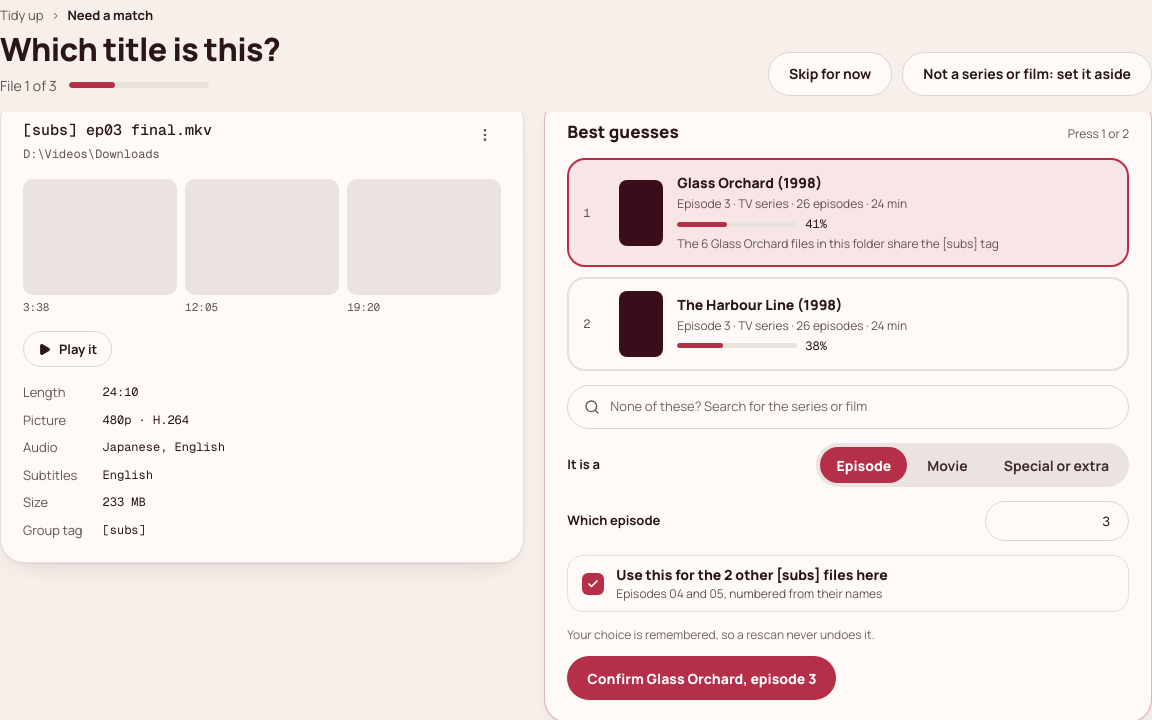
Test: MatchPage › says why it can't search without a TMDB key
Step 1. Type "Glass Orchard Returns" into the search field named "Search for the right series or film" → coordinates (861, 407), box [610, 397, 1112, 417]
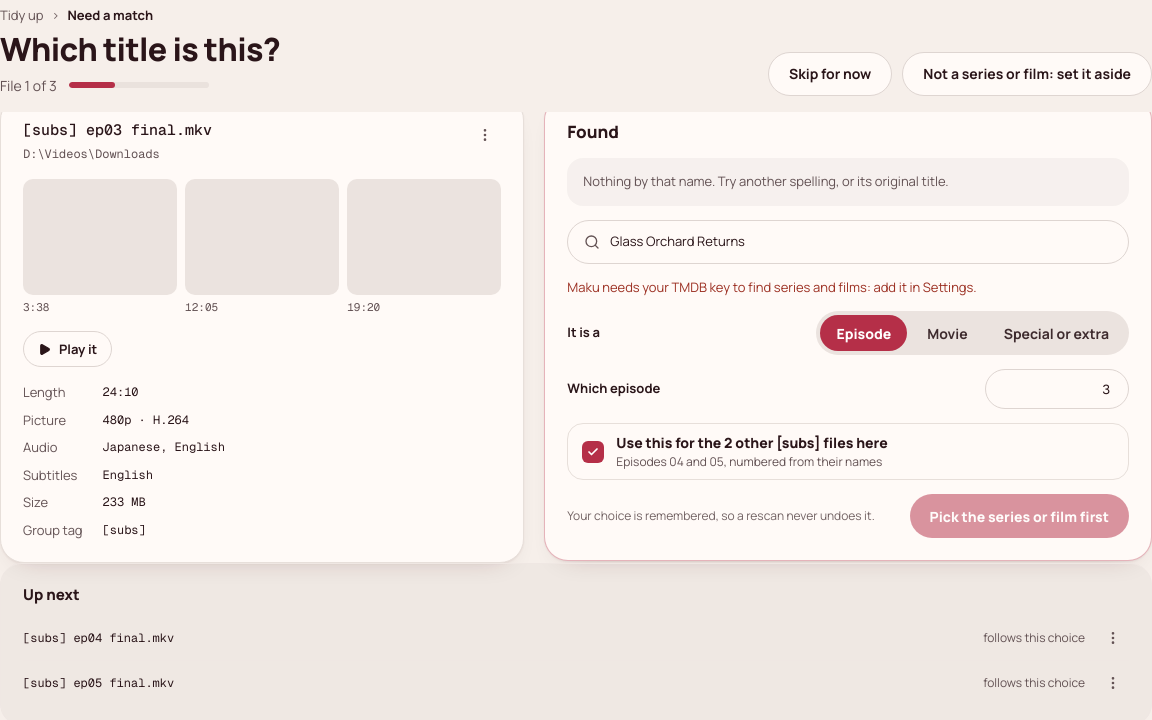
Expected: the message reads "Maku needs your TMDB key to find series and films: add it in Settings.", [567, 278, 977, 296]
